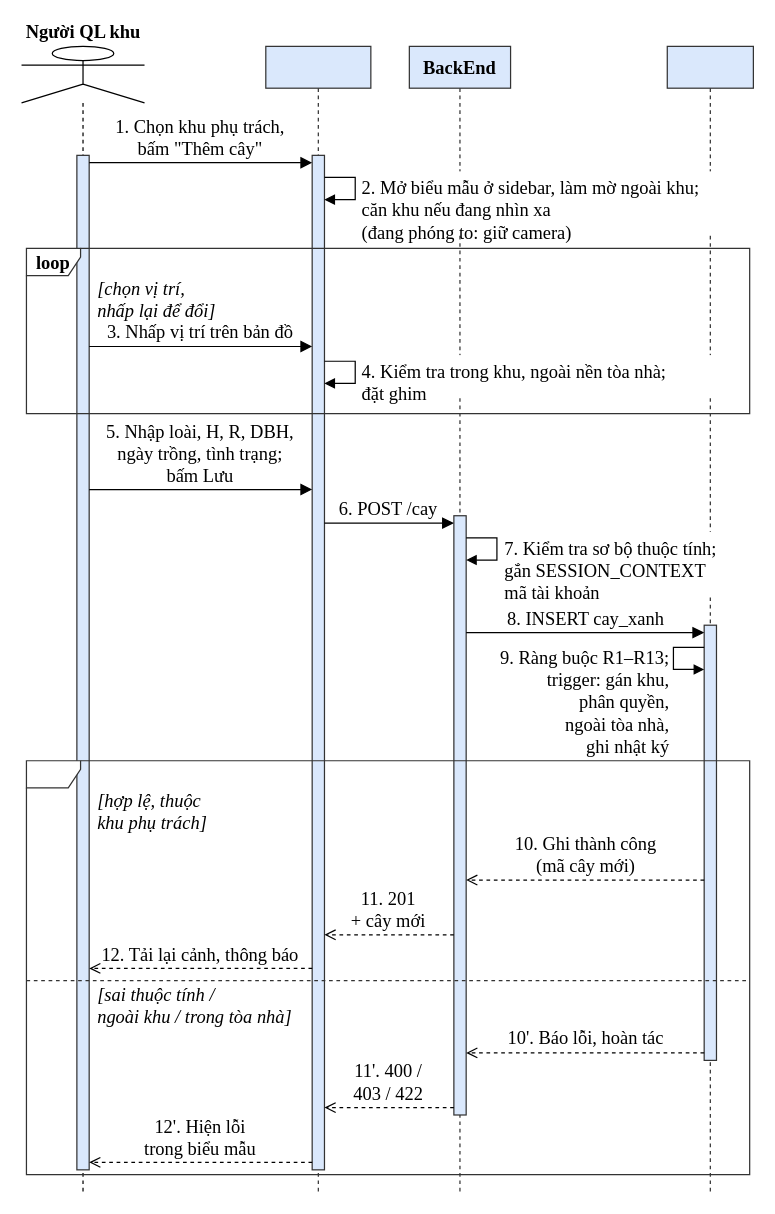
Some shapes in this 775 by 1214 pixel diagram are drawn without their labels. The box of each missing label's shape, as (x1, y1, x2, y2) in pixels:
alt: (25, 760, 750, 1175)
CSDL: (666, 45, 753, 1192)
Giao diện: (265, 45, 371, 1192)
